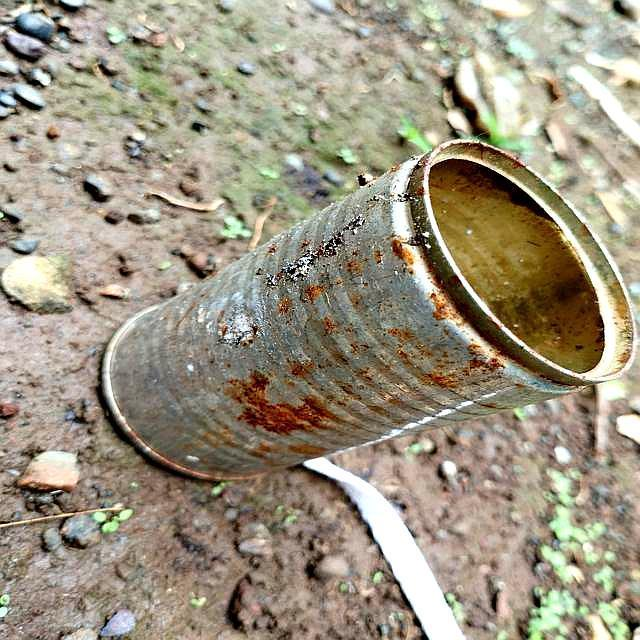Non-biodegradable: (98, 136, 636, 485)
